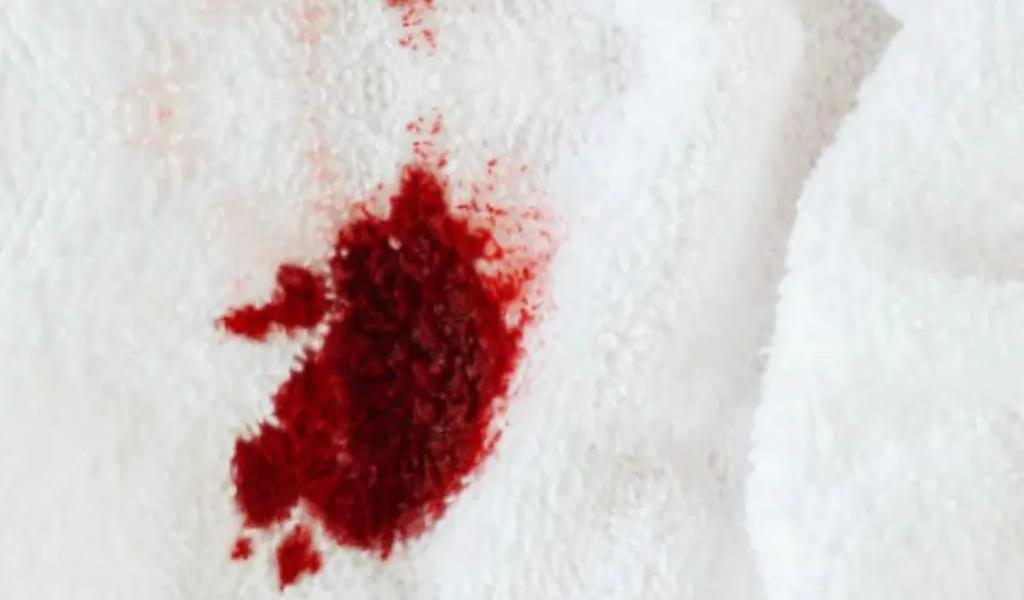stain: (209, 109, 561, 598), (375, 1, 461, 59)
